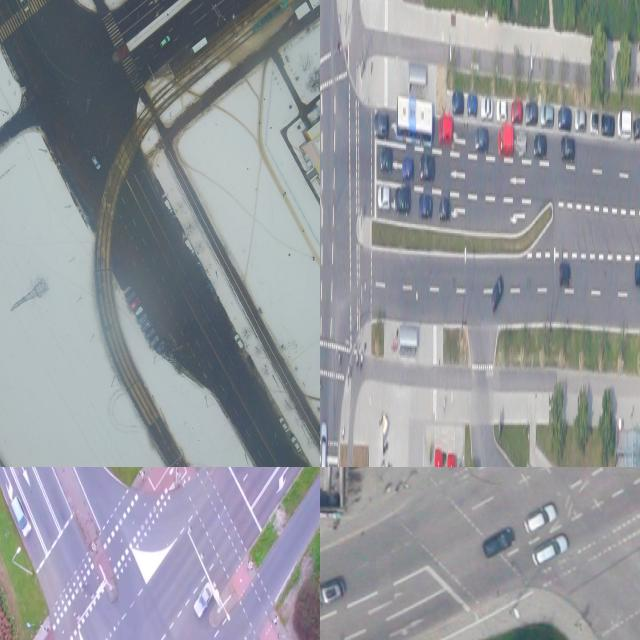UAI: (530, 532, 570, 568), (522, 502, 558, 535), (481, 526, 515, 559), (11, 494, 33, 541), (320, 577, 346, 611), (194, 581, 214, 621), (492, 273, 504, 313), (498, 123, 513, 155), (396, 185, 411, 215), (374, 109, 388, 141), (439, 115, 453, 147), (420, 154, 435, 182), (380, 144, 392, 176), (419, 193, 433, 219), (561, 135, 575, 161), (618, 111, 631, 139), (475, 126, 488, 152), (601, 113, 615, 137), (378, 184, 390, 210), (439, 196, 451, 222), (535, 134, 547, 160), (558, 106, 571, 130), (481, 94, 493, 120), (541, 104, 553, 128), (511, 98, 522, 124), (452, 90, 463, 116), (559, 261, 570, 287), (320, 421, 326, 467), (526, 103, 538, 125), (403, 156, 413, 182), (497, 97, 507, 123), (575, 108, 586, 130), (184, 238, 196, 258), (516, 133, 526, 157), (467, 93, 477, 117), (590, 110, 598, 134), (193, 257, 204, 274), (206, 279, 217, 296), (164, 198, 174, 216), (278, 417, 289, 433), (633, 115, 640, 139), (634, 261, 640, 288), (234, 333, 244, 349), (291, 436, 301, 452), (140, 320, 152, 333), (144, 328, 156, 341), (137, 313, 148, 326), (160, 35, 171, 48), (130, 297, 140, 311), (156, 340, 166, 354), (91, 156, 101, 170), (126, 291, 136, 304), (149, 335, 159, 348), (134, 306, 144, 318), (19, 0, 29, 11)
car: (397, 93, 433, 147)
